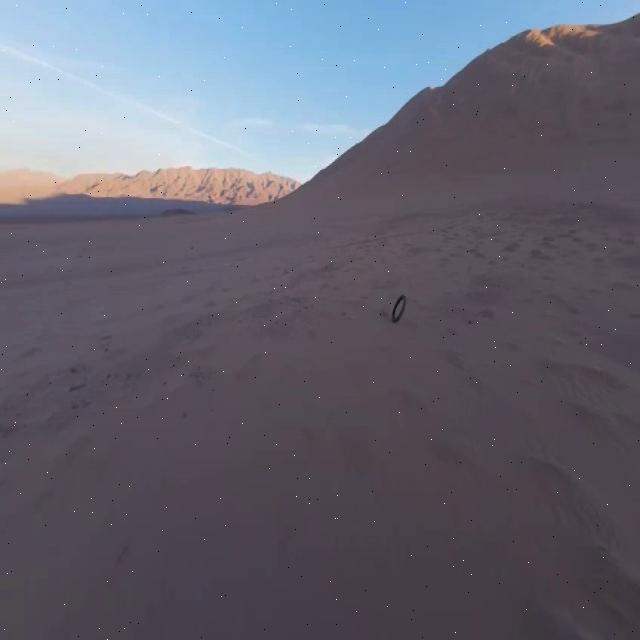Tire: (392, 295, 406, 321)
